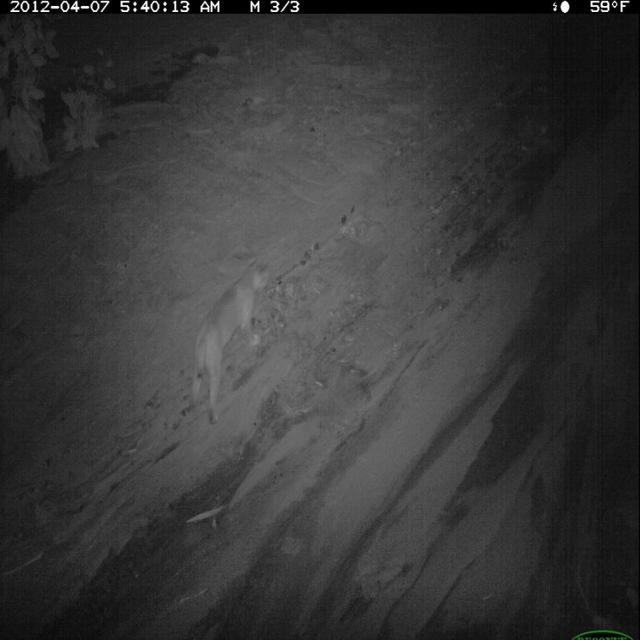bobcat: (186, 253, 274, 428)
